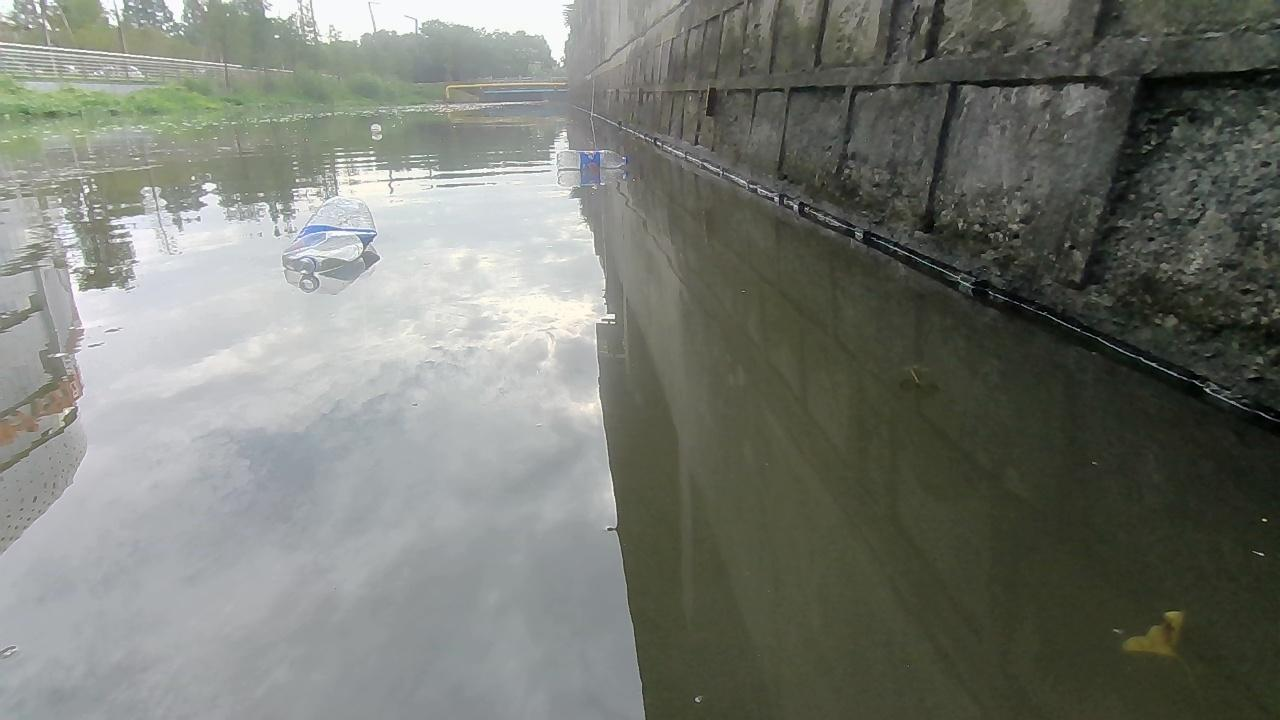bottle: (278, 196, 380, 275), (551, 145, 639, 171), (367, 122, 384, 132)
